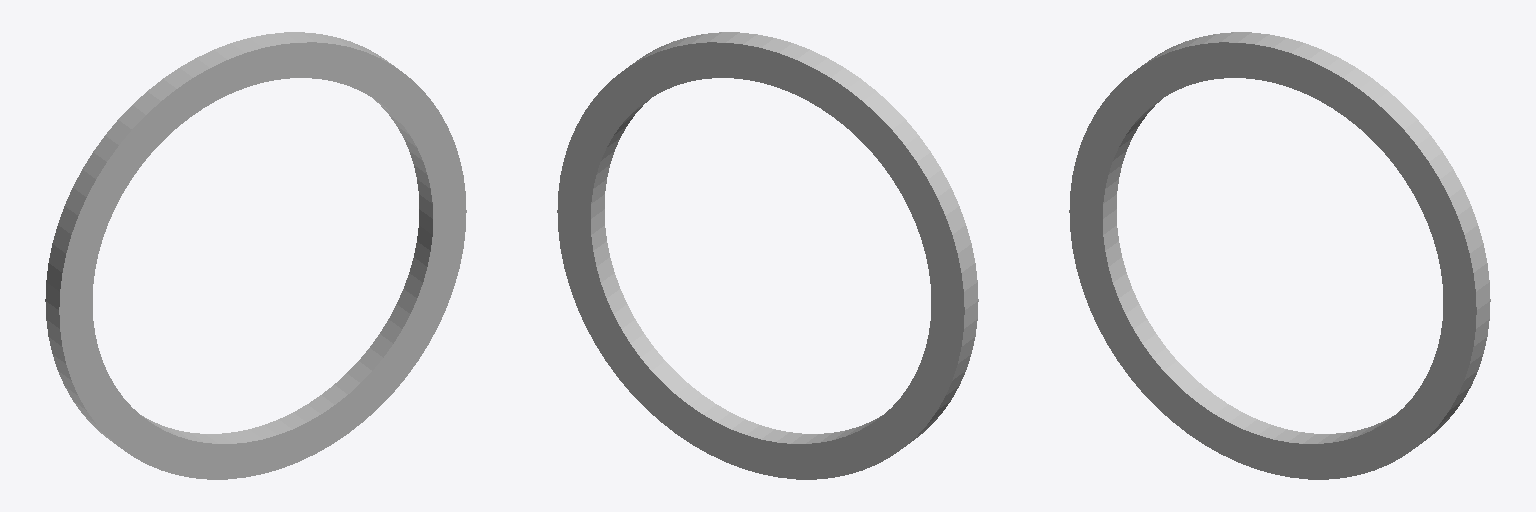
File: OuterPixels_NegativeEndcap_Ring1_passives_l31.obj
3 views of the same model, side by side, from view 1: azimuth 30°, elevation 25°; view 2: azimuth 150°, elevation 25°; view 3: azimuth 330°, elevation 25° (orthographic).
Size of the model in its own units: 513 by 513 by 30.26.